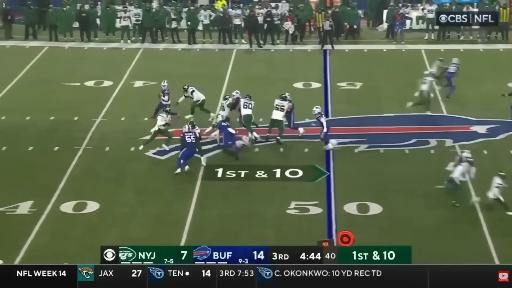Helmet: (312, 105, 322, 114), (233, 90, 242, 98), (497, 171, 506, 179), (279, 93, 287, 101), (162, 80, 169, 89), (163, 107, 171, 114), (452, 58, 461, 64), (184, 124, 191, 131), (190, 121, 196, 129), (217, 115, 223, 123), (286, 92, 291, 101), (245, 95, 252, 101), (184, 84, 189, 92), (224, 95, 230, 101)
Jersey: (450, 162, 475, 184), (218, 122, 235, 147), (487, 176, 506, 198), (271, 100, 288, 120), (182, 131, 199, 151), (184, 87, 205, 101), (155, 113, 171, 129), (315, 112, 327, 133), (219, 99, 232, 117), (240, 99, 254, 115), (420, 77, 434, 91), (199, 10, 214, 23), (446, 64, 459, 77), (131, 8, 142, 23), (431, 60, 442, 75), (425, 5, 437, 18), (120, 12, 131, 26), (286, 96, 294, 114), (161, 88, 170, 104), (272, 10, 281, 26), (232, 10, 242, 24), (256, 9, 266, 23)
Player: (139, 108, 179, 149), (176, 85, 215, 120), (218, 118, 250, 159), (175, 124, 200, 173), (407, 71, 435, 113), (486, 171, 512, 215), (445, 158, 475, 196), (267, 94, 289, 144), (205, 95, 232, 133), (313, 106, 335, 149), (239, 95, 259, 140), (284, 93, 304, 136), (189, 121, 205, 165), (152, 80, 170, 118), (445, 58, 459, 98), (231, 4, 245, 43), (446, 150, 472, 171), (431, 57, 445, 86), (219, 95, 232, 118), (231, 90, 242, 100), (510, 105, 511, 119)
